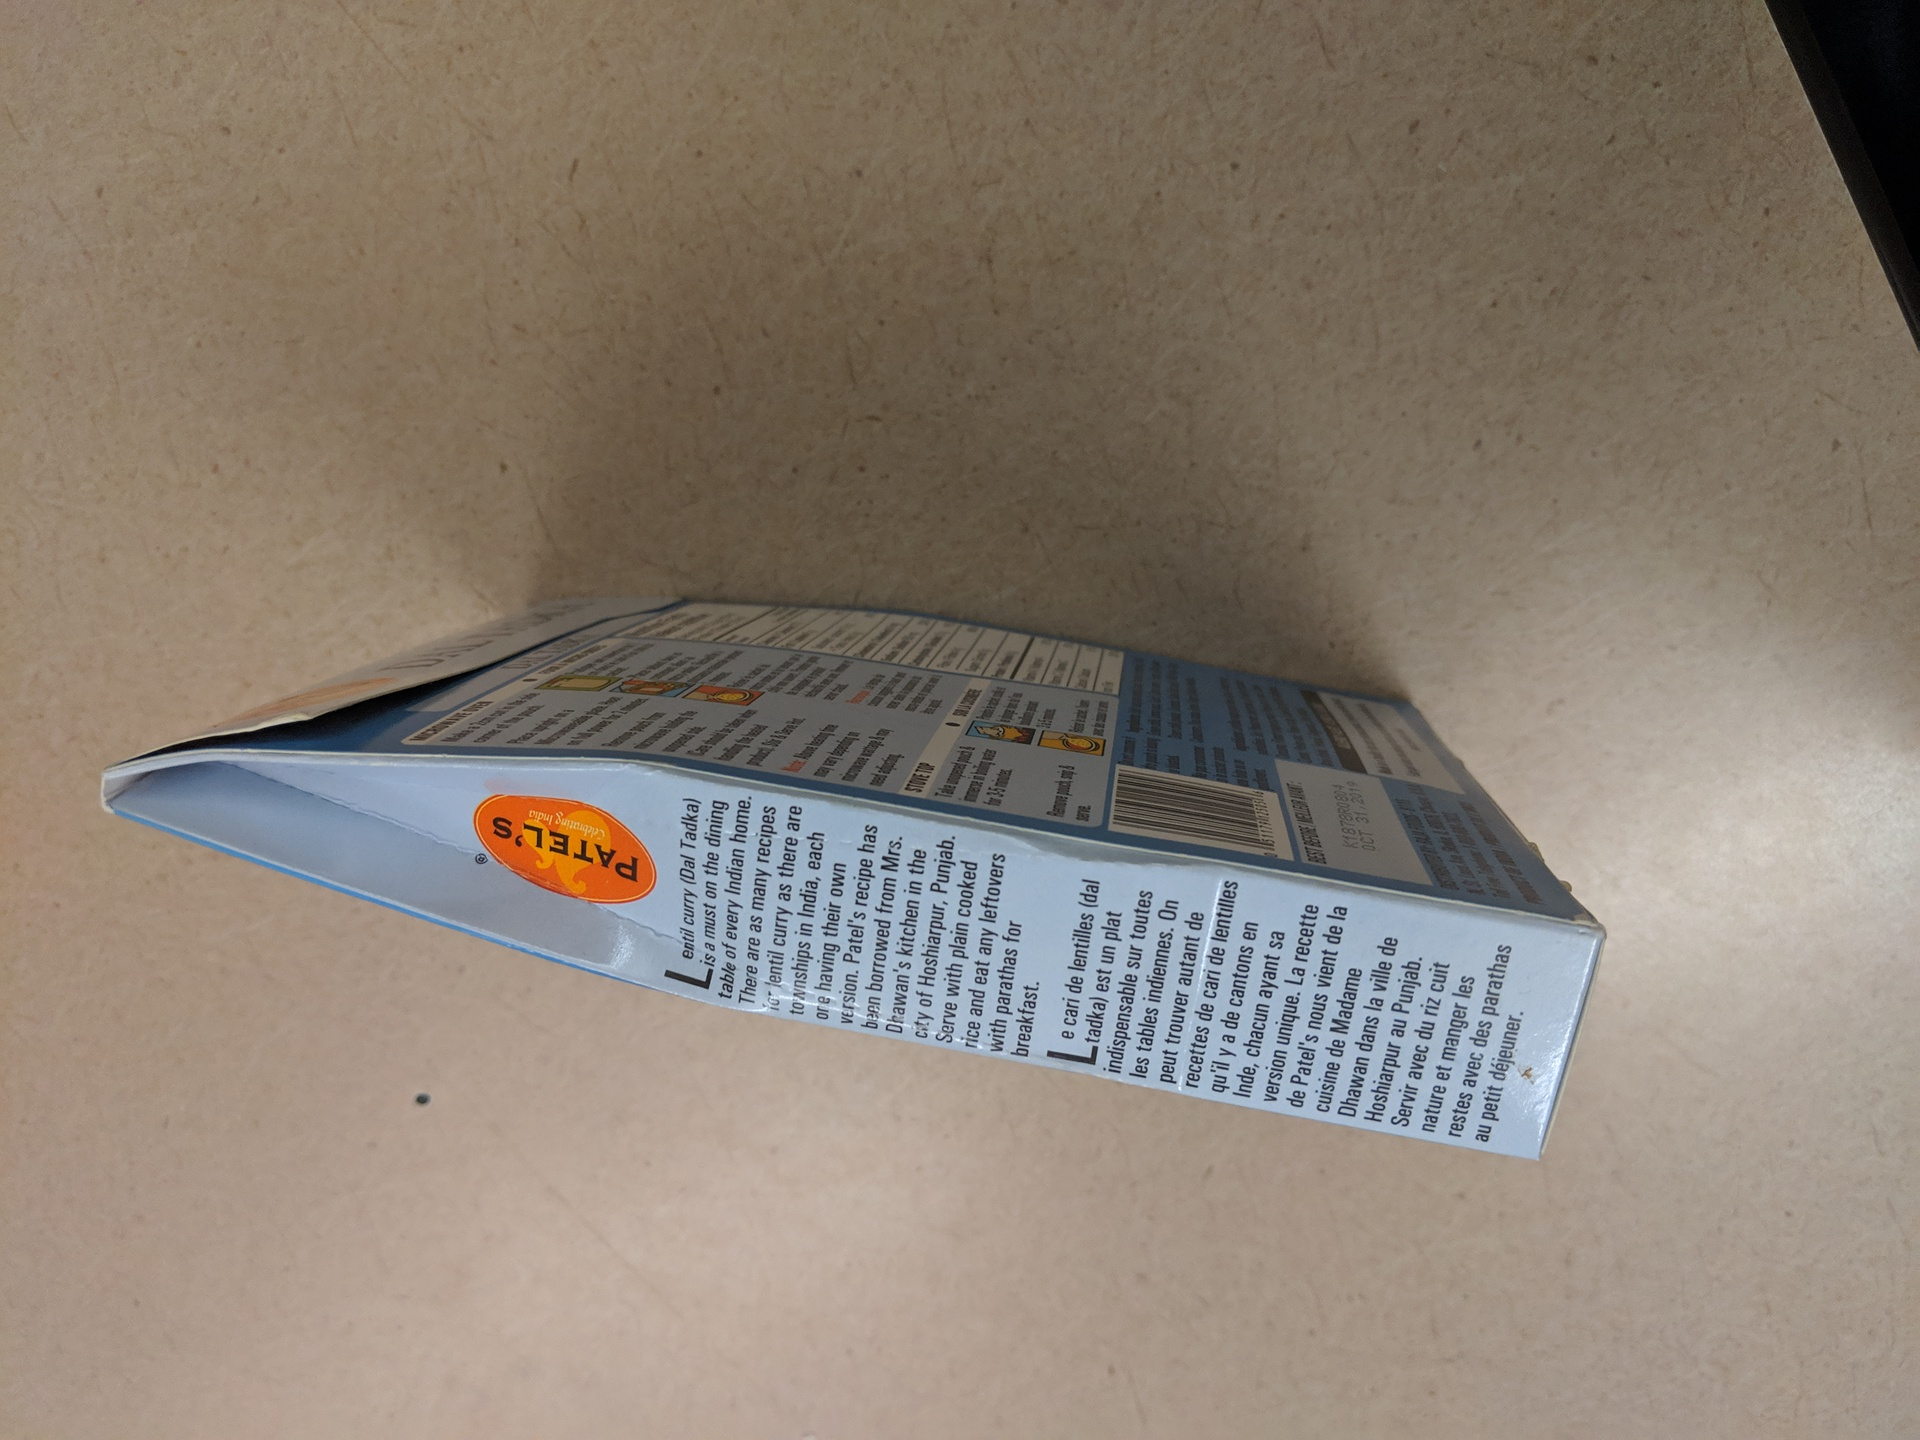patels_dal_tadka_lentil_curry: (97, 576, 1612, 1168)
